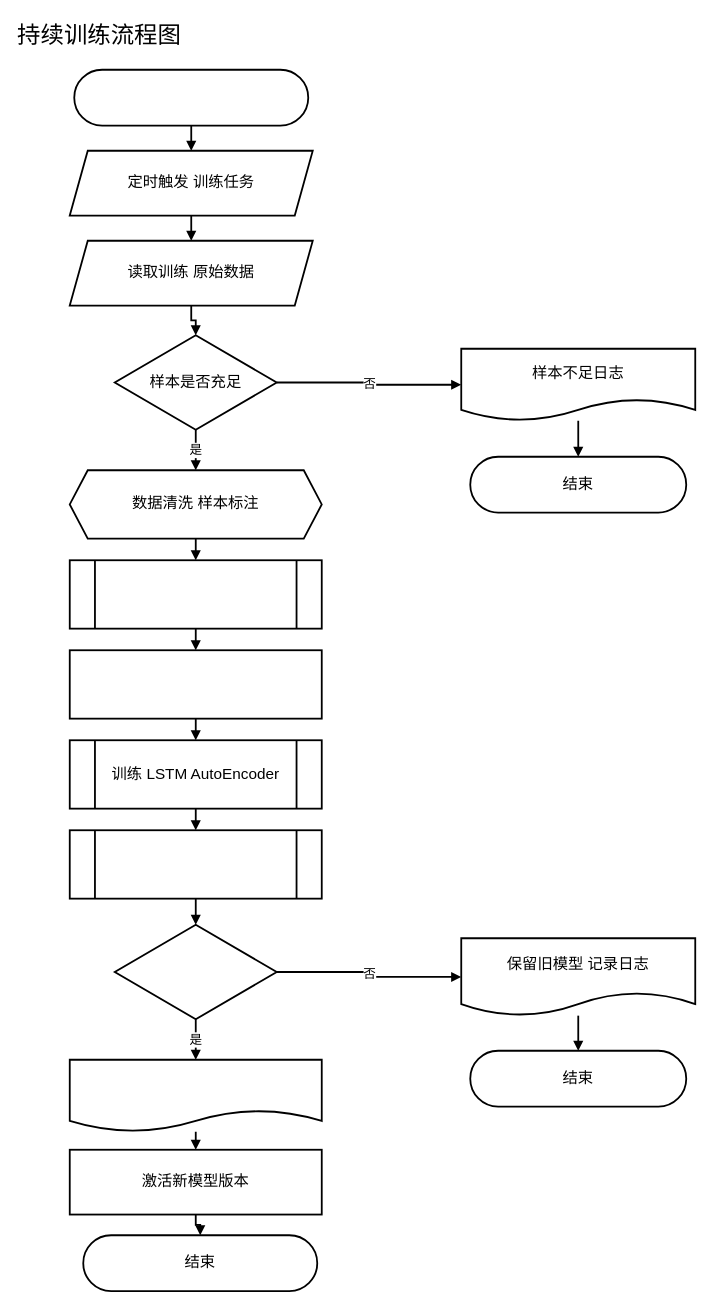
The diagram is 711 pixels wide and 1307 high, and some of its shapes have lost their labels. Here are the shapes that lost their labels. From the top down, the centre of each, then its label:
At point (191, 97): "开始".
At point (195, 594): "构造训练窗口 24 × 7".
At point (195, 684): "划分训练集 验证集".
At point (195, 864): "计算阈值 评估指标".
At point (195, 971): "指标是否达标".
At point (195, 1095): "登记模型元数据".
